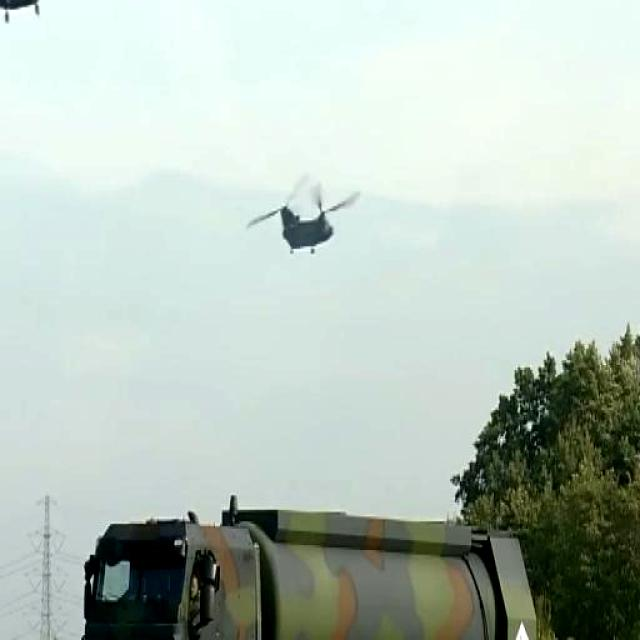drone: (239, 164, 378, 272)
